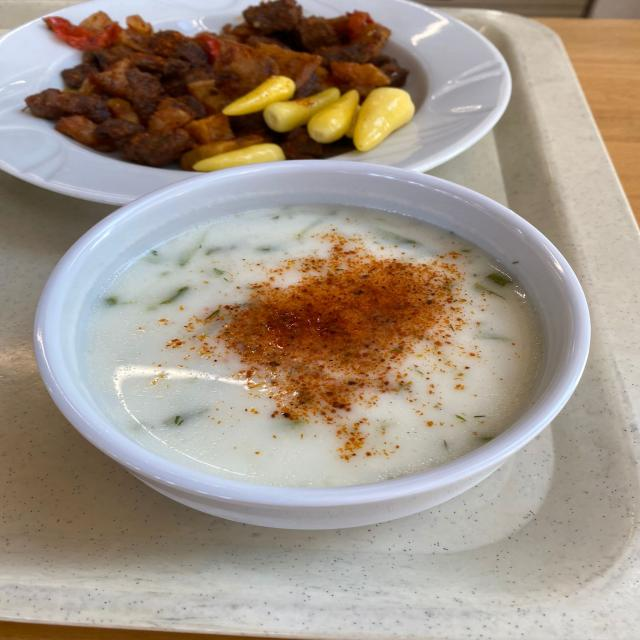ana_yemek: (38, 5, 448, 177)
corba: (65, 197, 535, 511)
